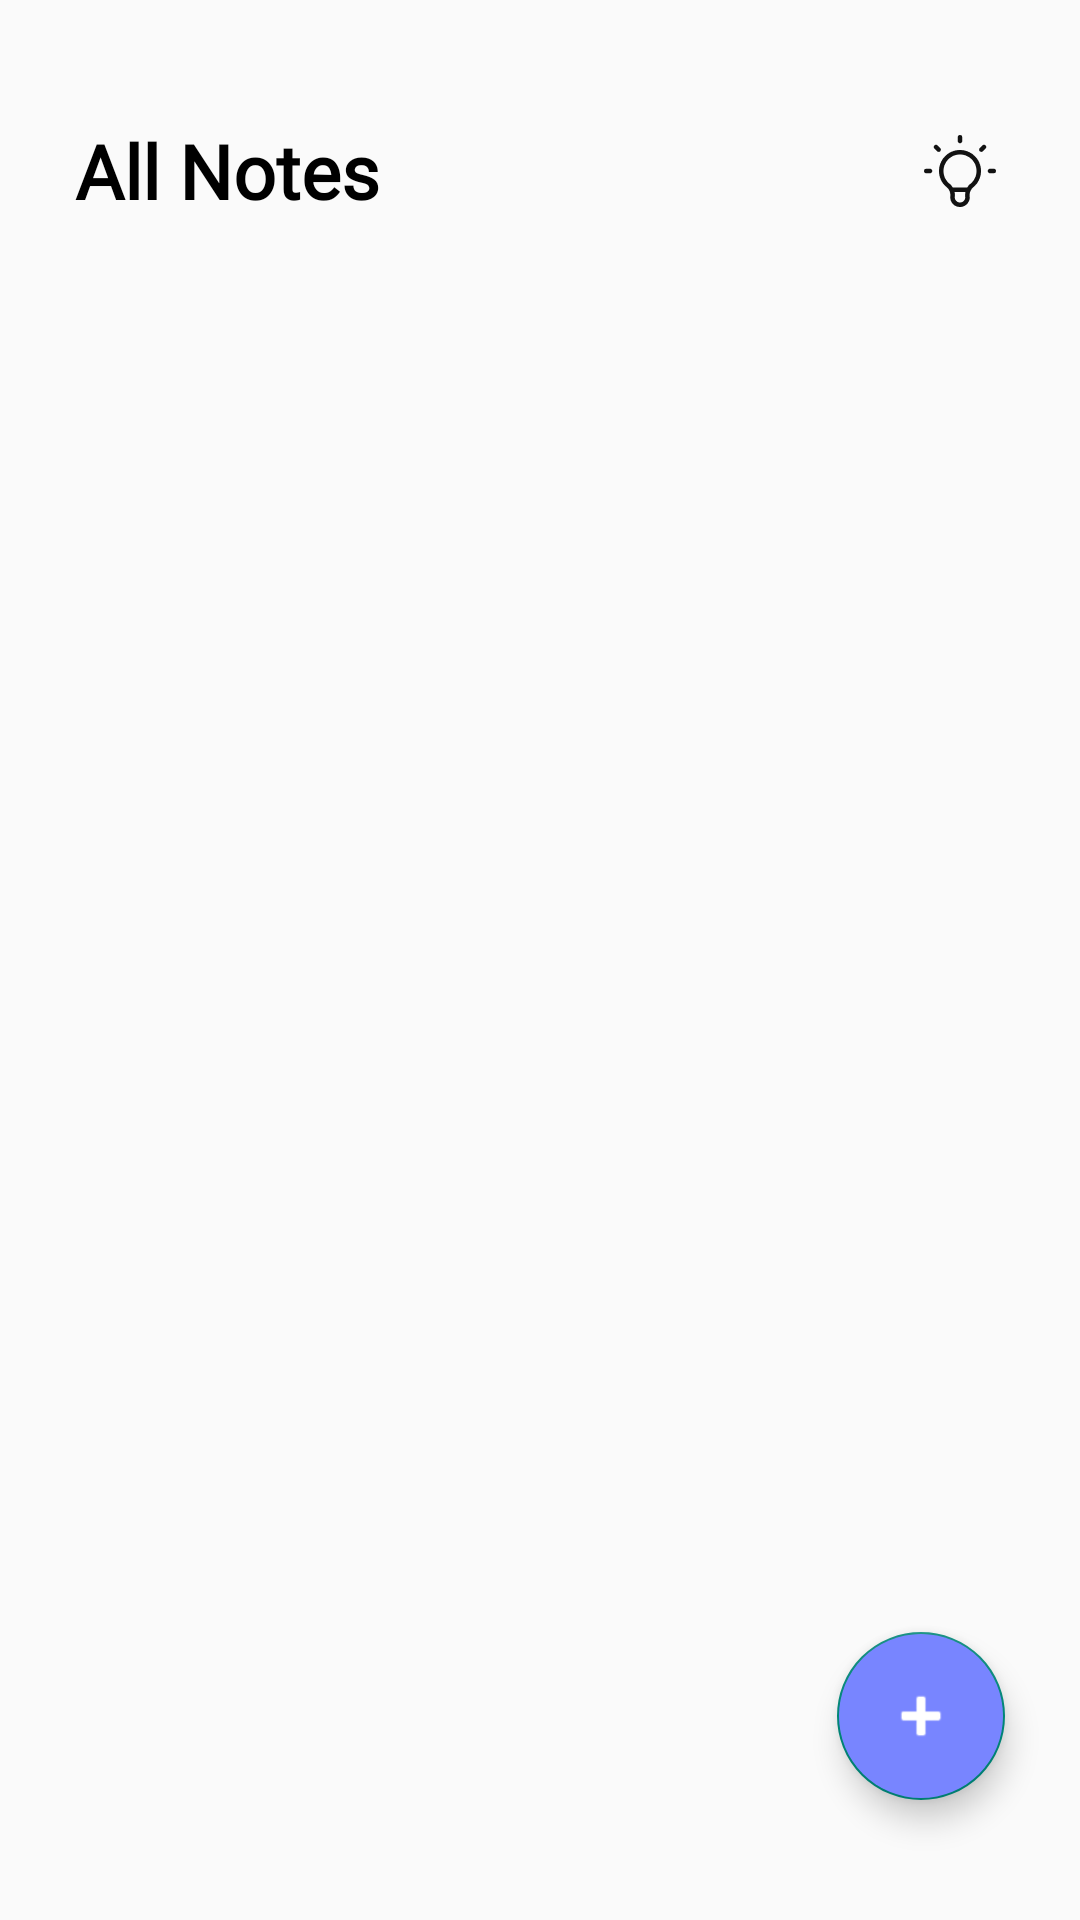

Icons on this 1080 x 1920 Android screen, each with the point to tap as point (x, y):
add: point (921, 1716)
